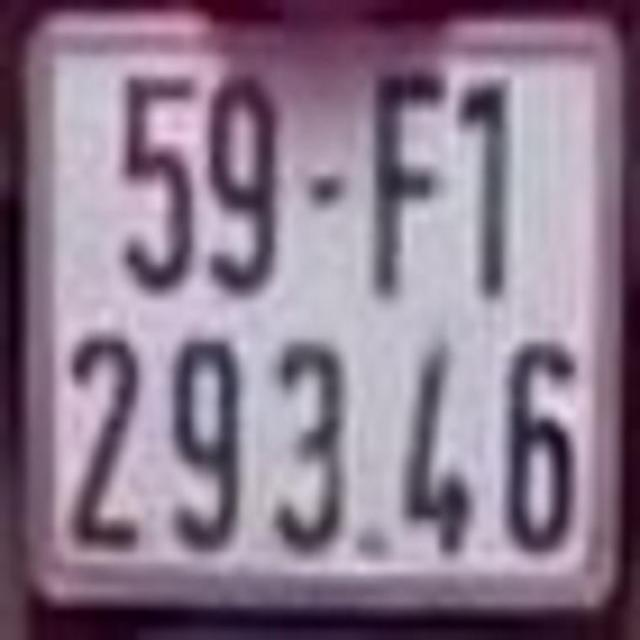1: (448, 58, 531, 321)
2: (64, 328, 139, 555)
3: (271, 328, 348, 552)
4: (397, 344, 478, 558)
5: (117, 67, 193, 296)
6: (504, 337, 583, 562)
9: (202, 70, 281, 302), (166, 331, 240, 552)
F: (361, 71, 448, 307)
